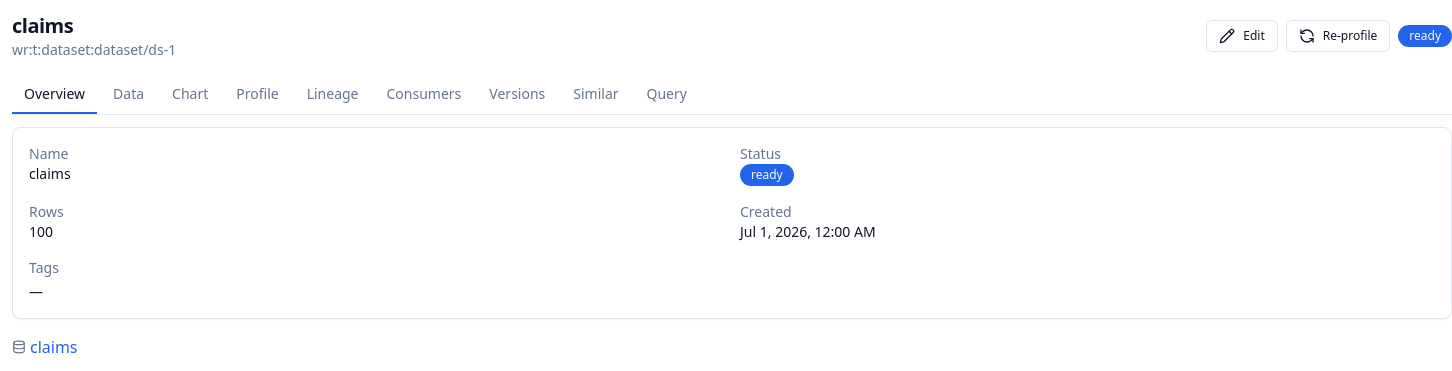
Test case: Dataset detail page (consumers/versions/similar/re-profile, Tier 4a) › lists similar datasets ranked by the real similarity search
Click the tab "similar" at (596, 95), box [561,76,631,114]
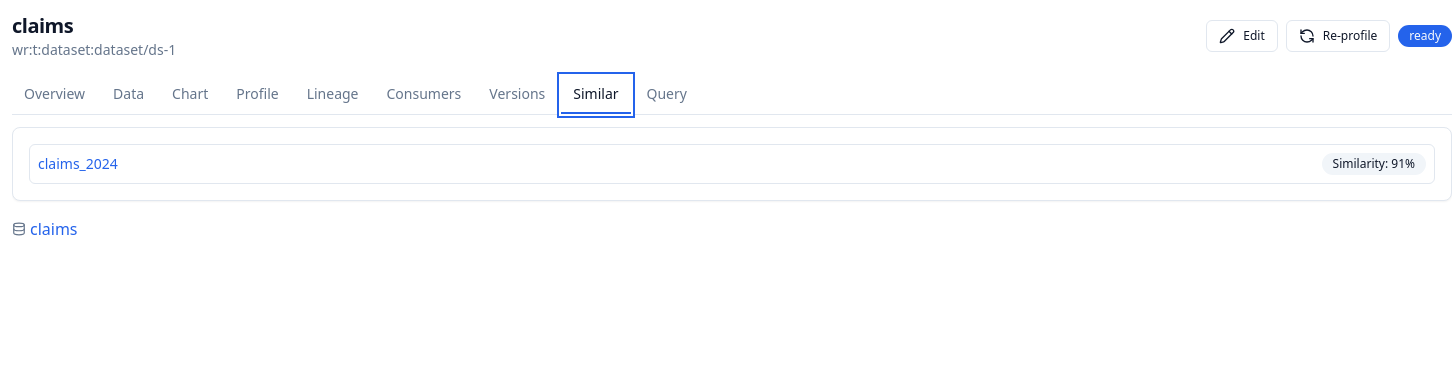
Check: the link "claims_2024" is shown, box [38,154,118,173]
Check: the text "Similarity: 91%" is shown, box [1322,153,1426,175]
